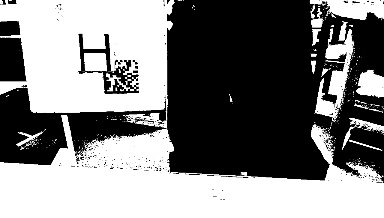H: (72, 30, 115, 72)
